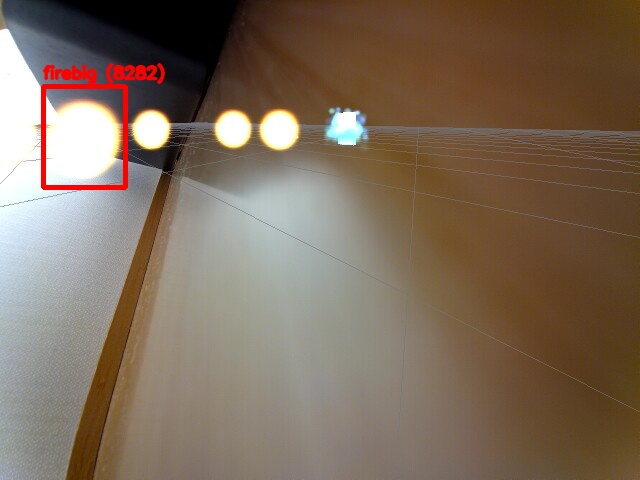firebig: (43, 86, 125, 187)
